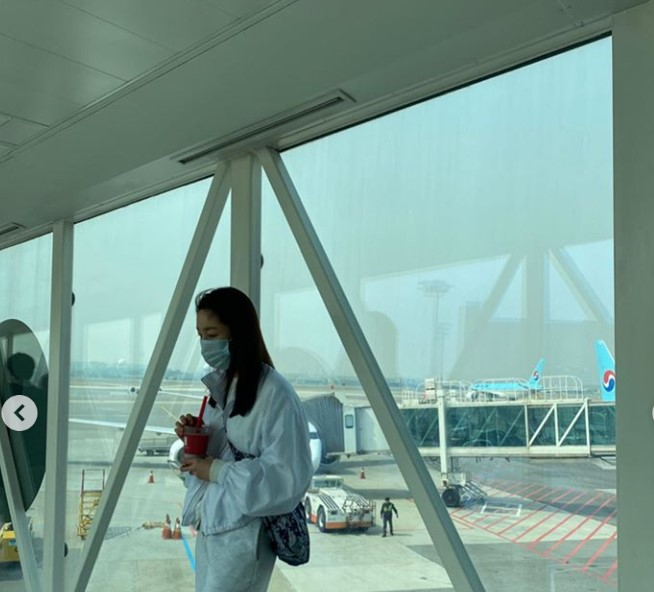face_with_mask: (199, 291, 255, 376)
